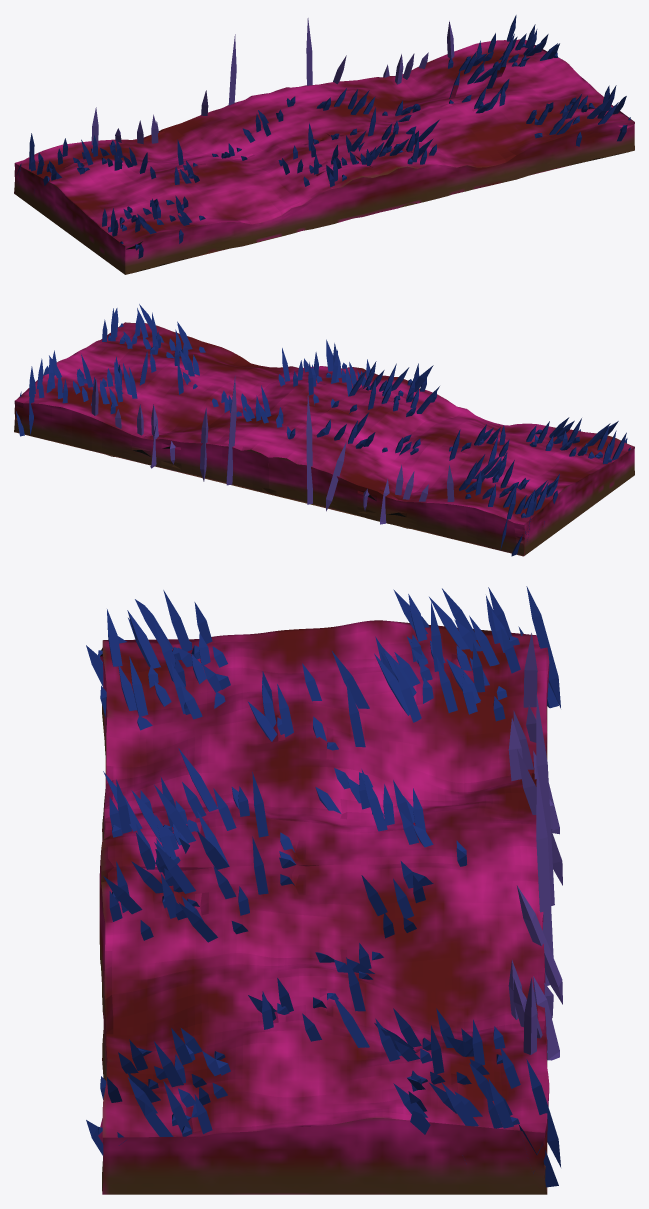
Rendered from lower_middle1.fbx.
The picture shows the model from 3 angles, top to bottom: view 1: azimuth 30°, elevation 25°; view 2: azimuth 150°, elevation 25°; view 3: azimuth 270°, elevation 25°; orthographic projection. The views are drawn at different scales.
Parts seen in each view (by area): view 1: low_middle; view 2: low_middle; view 3: low_middle.
Part boxes in pixels (x1,y1,x2,y2): low_middle: [14, 15, 634, 274]; low_middle: [14, 304, 634, 556]; low_middle: [86, 586, 562, 1194].
Size of the model in its own units: 1600 by 330 by 648.
